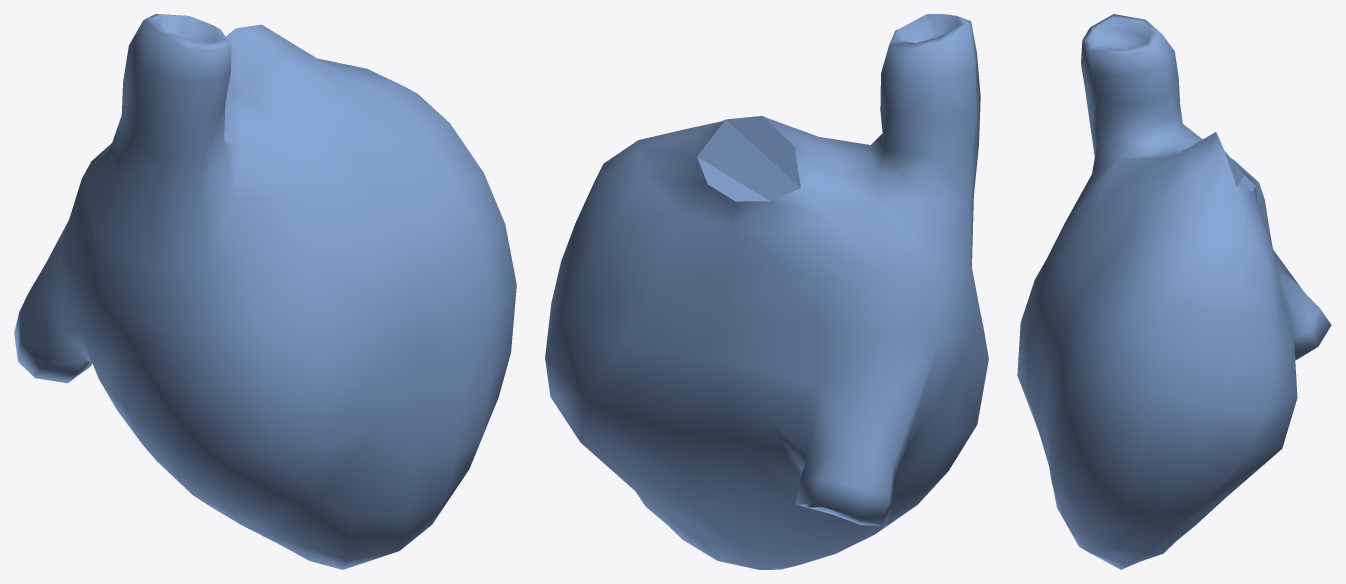
Rendered from CorazonEntero_Low03.fbx.
3 renders of one model, left to right at view 1: azimuth 30°, elevation 25°; view 2: azimuth 150°, elevation 25°; view 3: azimuth 270°, elevation 25°, orthographic. The views are drawn at different scales.
Parts seen in each view (by area): view 1: Plane; view 2: Plane; view 3: Plane.
Part boxes in pixels (x1,y1,x2,y2): Plane: (14, 14, 516, 569); Plane: (545, 14, 988, 569); Plane: (1017, 14, 1331, 569).
Size of the model in its own units: 231 by 321 by 195.
